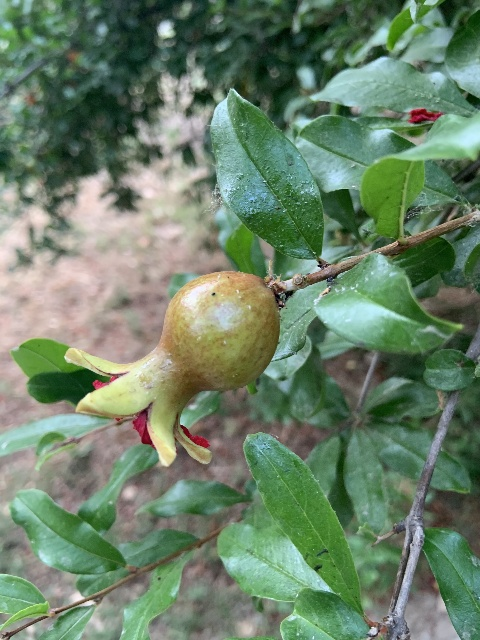early-fruit: (66, 271, 279, 468)
